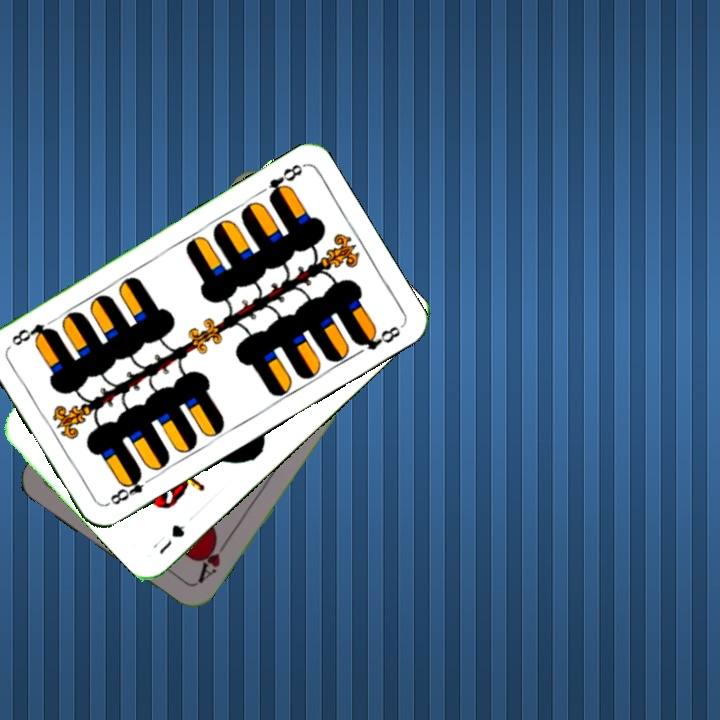E8: (103, 468, 156, 508), (264, 160, 306, 203)
GU: (154, 520, 188, 557)
HA: (193, 532, 231, 586)
